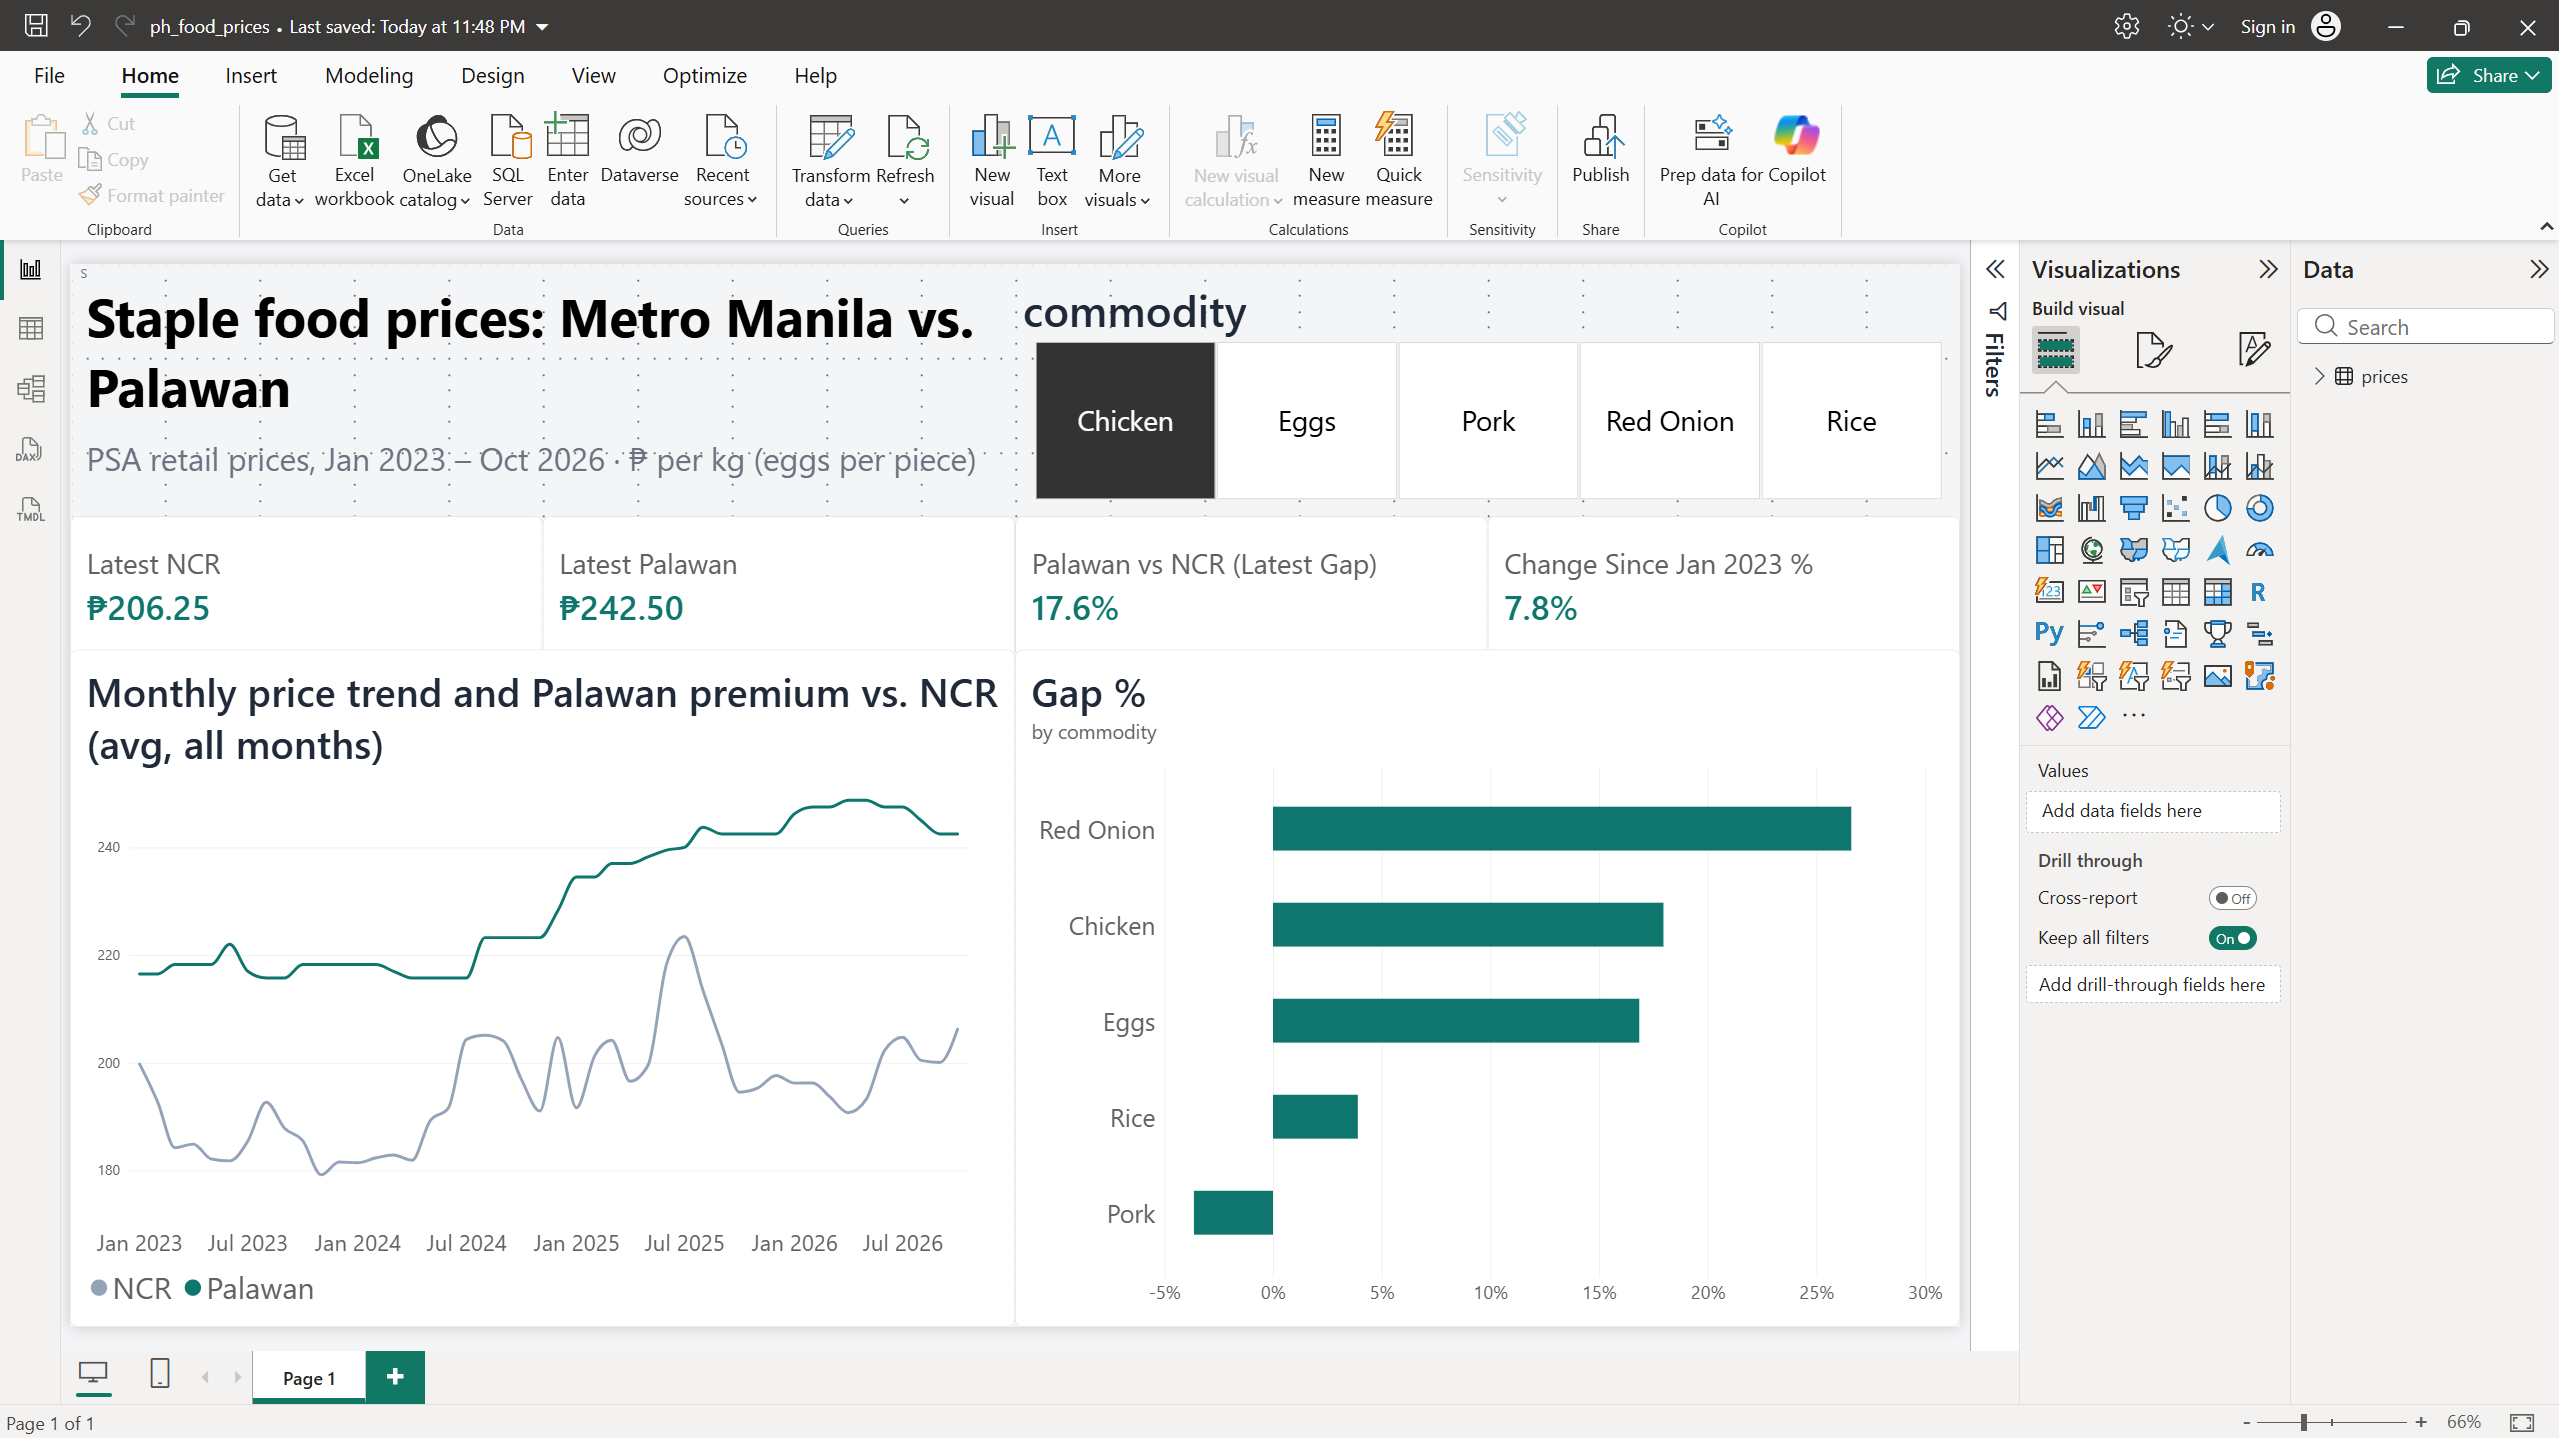

What the dashboard file says about the page in this screenshot:
{"tool":"powerbi","page":{"name":"Page 1","canvas":[1920,1080],"ordinal":0},"visuals":[{"type":"textbox","box":[10,0,280,280],"z":0},{"type":"textbox","box":[16,16,928,240],"z":1000},{"type":"slicer","fields":{"Values":["prices.commodity"]},"box":[960,16,960,224],"z":2000},{"type":"cardVisual","fields":{"Data":["prices.Latest NCR"]},"box":[0,256,480,144],"z":3000},{"type":"cardVisual","fields":{"Data":["prices.Change Since Jan 2023 %"]},"box":[1440,256,480,144],"z":4000},{"type":"cardVisual","fields":{"Data":["prices.Latest Palawan"]},"box":[480,256,480,144],"z":5000},{"type":"cardVisual","fields":{"Data":["prices.Latest Gap %"]},"box":[960,256,480,144],"z":6000},{"type":"lineChart","title":"Monthly price trend and Palawan premium vs. NCR (avg, all months)","fields":{"Category":["prices.date"],"Series":["prices.location"],"Y":["prices.Avg Price"]},"box":[0,392,960,688],"z":7000},{"type":"clusteredBarChart","fields":{"Category":["prices.commodity"],"Y":["prices.Gap %"]},"box":[960,392,960,688],"z":8000}]}

Visuals, with their boxes on the page's 1920x1080 design canvas (x1, y1, x2, y2). These are canvas units, not pixel positions in the 2559x1438 screenshot, which may show the page scaled, cropped or inside an application window:
textbox: region(10, 0, 290, 280)
textbox: region(16, 16, 944, 256)
slicer - prices.commodity: region(960, 16, 1920, 240)
cardVisual - prices.Latest NCR: region(0, 256, 480, 400)
cardVisual - prices.Change Since Jan 2023 %: region(1440, 256, 1920, 400)
cardVisual - prices.Latest Palawan: region(480, 256, 960, 400)
cardVisual - prices.Latest Gap %: region(960, 256, 1440, 400)
"Monthly price trend and Palawan premium vs. NCR (avg, all months)" lineChart: region(0, 392, 960, 1080)
clusteredBarChart - prices.commodity x prices.Gap %: region(960, 392, 1920, 1080)
